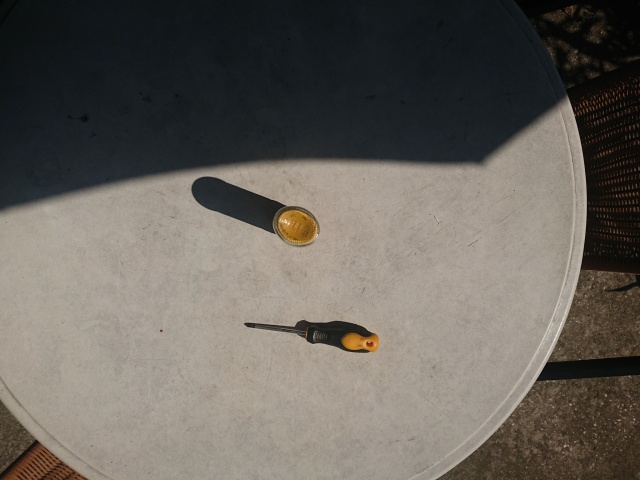Kotanyi Curry Spices Mix 70g: (270, 203, 322, 248)
